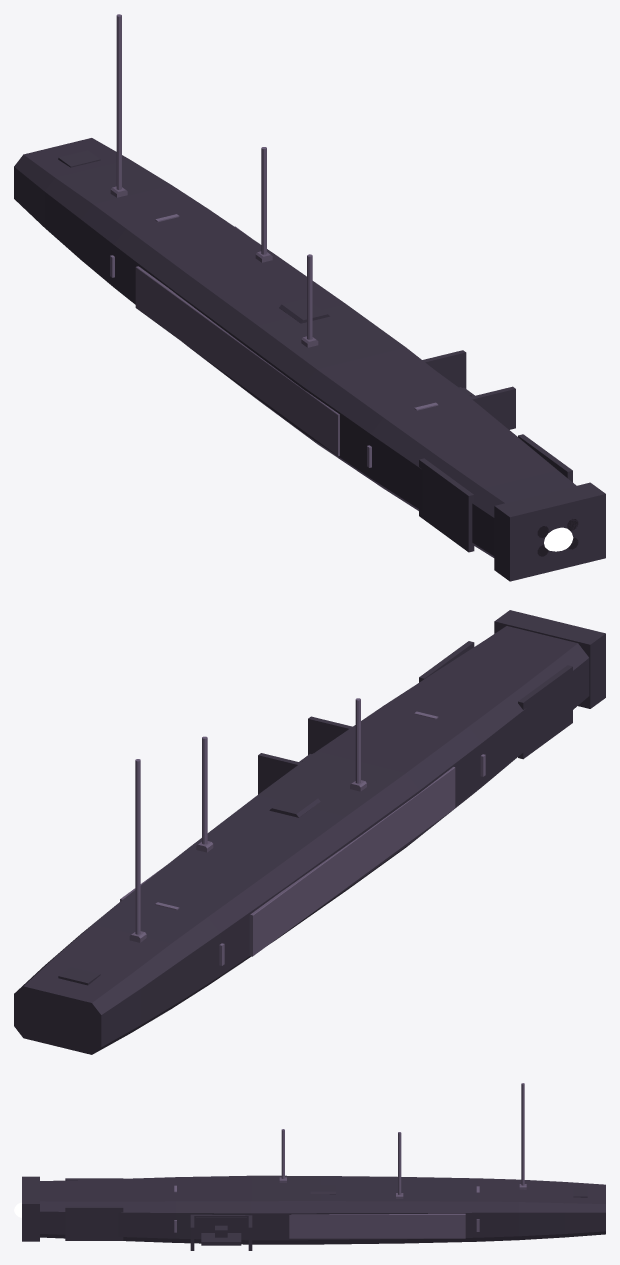
3 renders of one model, top to bottom at view 1: azimuth 30°, elevation 25°; view 2: azimuth 150°, elevation 25°; view 3: azimuth 270°, elevation 25°, orthographic. The views are drawn at different scales.
Visible parts, largest first — view 1: RIMWARD_HULL; view 2: RIMWARD_HULL; view 3: RIMWARD_HULL.
Boxes of the visible parts, x1=… form: RIMWARD_HULL: x1=14, y1=14, x2=605, y2=581; RIMWARD_HULL: x1=14, y1=610, x2=605, y2=1054; RIMWARD_HULL: x1=22, y1=1083, x2=605, y2=1250.
Size of the model in its own units: 5.98 by 8.83 by 32.58.
